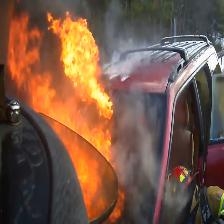fire: (7, 11, 146, 224)
smoke: (16, 2, 167, 78)
